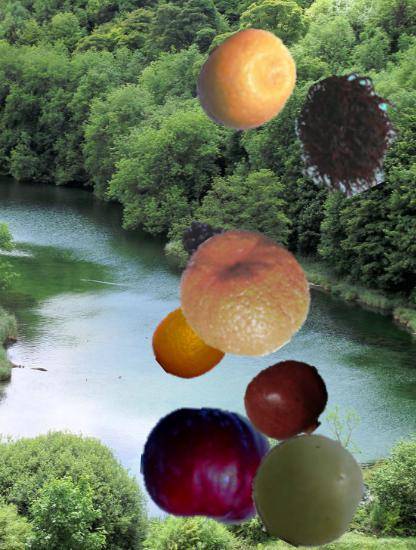Grape: (250, 431, 365, 546)
Kumquats: (192, 26, 302, 136)
Lemon: (151, 295, 239, 383)
Mandarine: (178, 228, 310, 360)
Mulberry: (179, 216, 242, 279)
Plum: (141, 398, 277, 534)
Pomegranate: (245, 358, 331, 444)
Rambutan: (287, 75, 406, 194)
